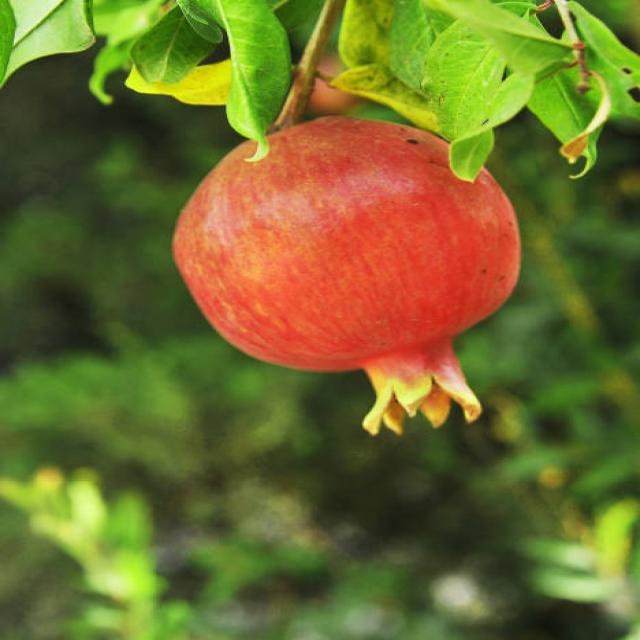Ripe: (162, 103, 531, 437)
